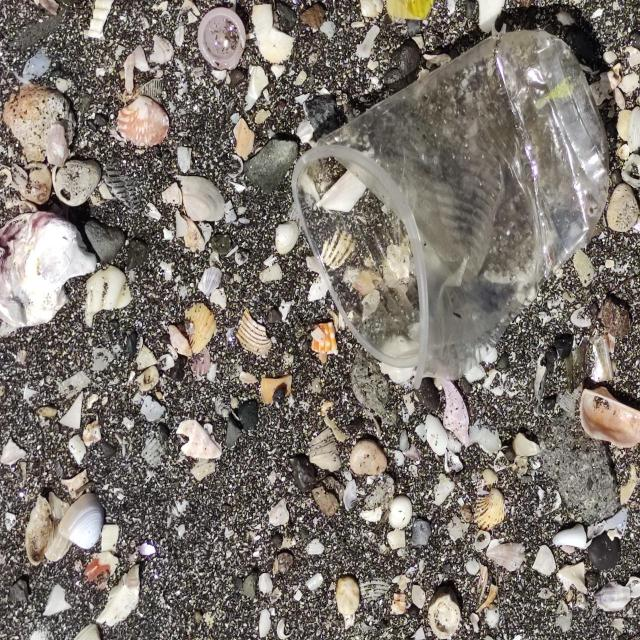plastic_waste: (290, 30, 612, 394)
